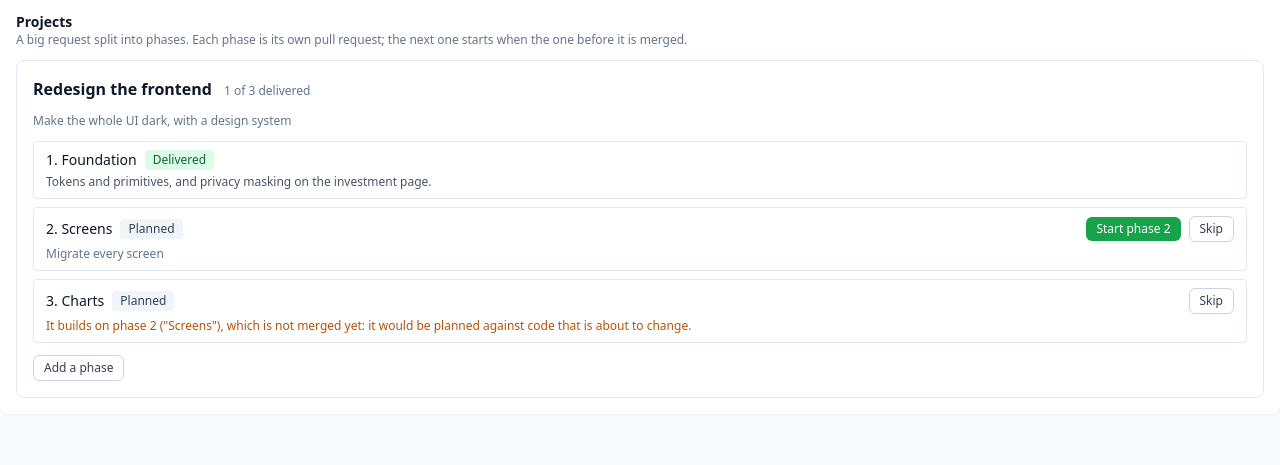
Test case: the projects of a repository › says why a phase could not start - the factory's own reason
Click the button "Start phase 2" at (1133, 229), box [1086,217,1180,241]
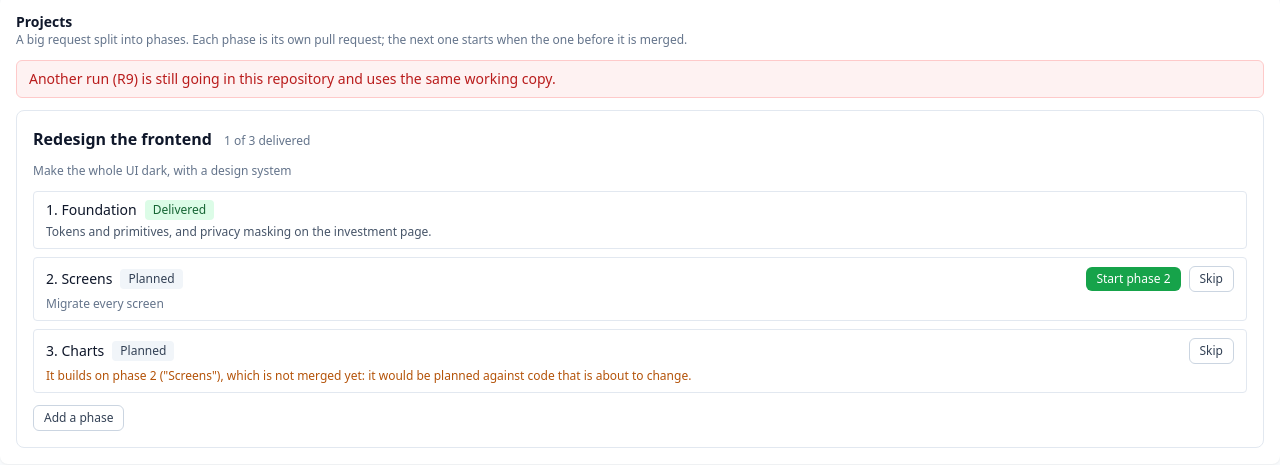
expect the button "Start phase 2" is shown: met, box [1086,267,1180,291]
expect the message shows "Another run (R9) is still going in this repository and uses the same working copy.": met, box [29,69,556,88]
